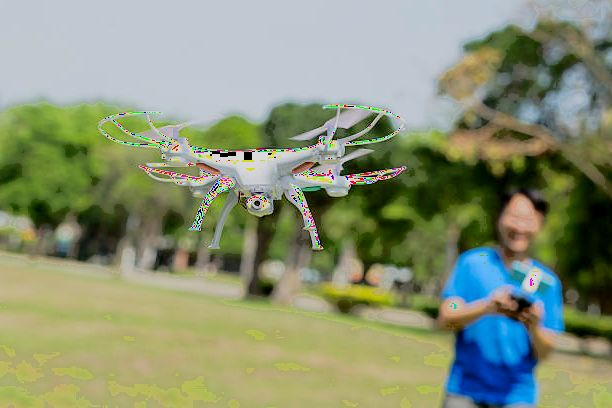Drone: (86, 94, 410, 254)
